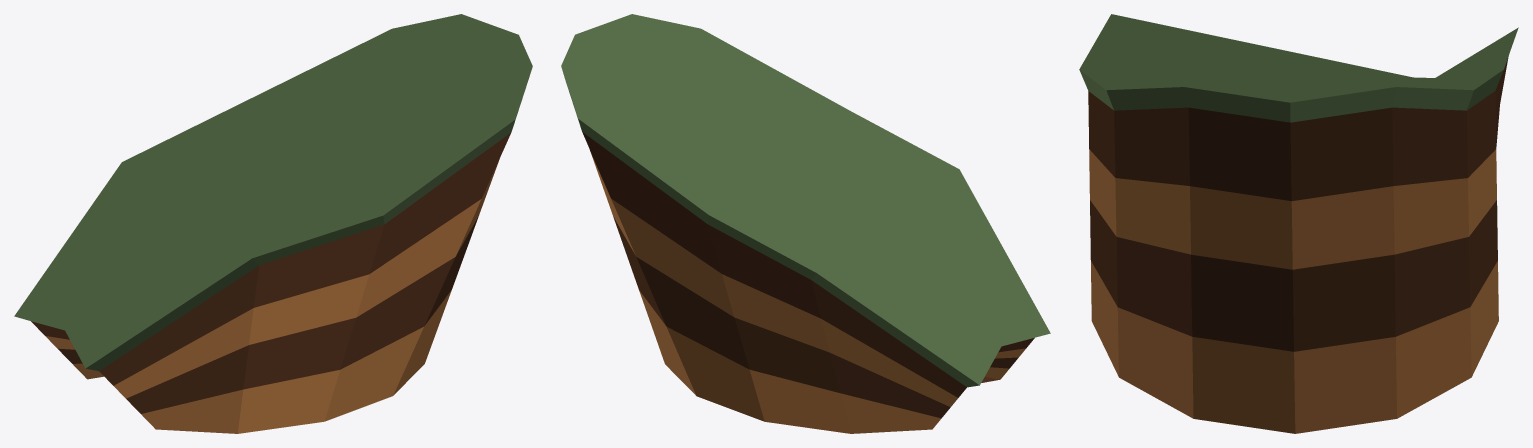
Rendered from CHAO11.fbx.
3 views of the same model, side by side, from view 1: azimuth 30°, elevation 25°; view 2: azimuth 150°, elevation 25°; view 3: azimuth 270°, elevation 25° (orthographic). The views are drawn at different scales.
Visible parts, largest first — view 1: Cylinder; view 2: Cylinder; view 3: Cylinder.
Boxes of the visible parts, x1,y1,x2,y2 form: Cylinder: [14, 14, 532, 433]; Cylinder: [561, 14, 1050, 433]; Cylinder: [1079, 14, 1518, 433].
Bounding box in the file's own units: 1240 × 713 × 696.
